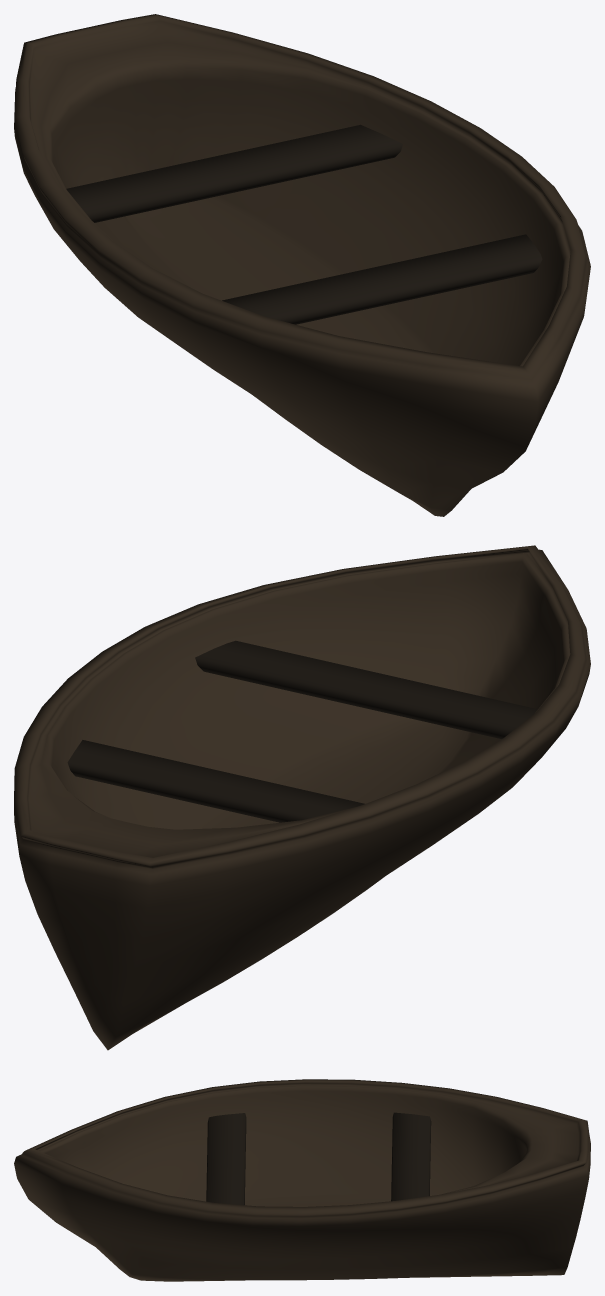
File: boat.obj
The picture shows the model from 3 angles, top to bottom: view 1: azimuth 30°, elevation 25°; view 2: azimuth 150°, elevation 25°; view 3: azimuth 270°, elevation 25°; orthographic projection. The views are drawn at different scales.
Visible parts, largest first — view 1: Boat_Cube.001_Wood, Boat_Cube.001_Dark_wood; view 2: Boat_Cube.001_Wood, Boat_Cube.001_Dark_wood; view 3: Boat_Cube.001_Wood, Boat_Cube.001_Dark_wood.
Boxes of the visible parts, left/top/right/bottom form: Boat_Cube.001_Wood: left=14, top=14, right=590, bottom=516; Boat_Cube.001_Dark_wood: left=66, top=124, right=542, bottom=324; Boat_Cube.001_Wood: left=14, top=545, right=590, bottom=1050; Boat_Cube.001_Dark_wood: left=67, top=640, right=537, bottom=822; Boat_Cube.001_Wood: left=14, top=1079, right=590, bottom=1281; Boat_Cube.001_Dark_wood: left=206, top=1112, right=431, bottom=1205.
Size of the model in its own units: 1.4 by 0.7252 by 2.61.
